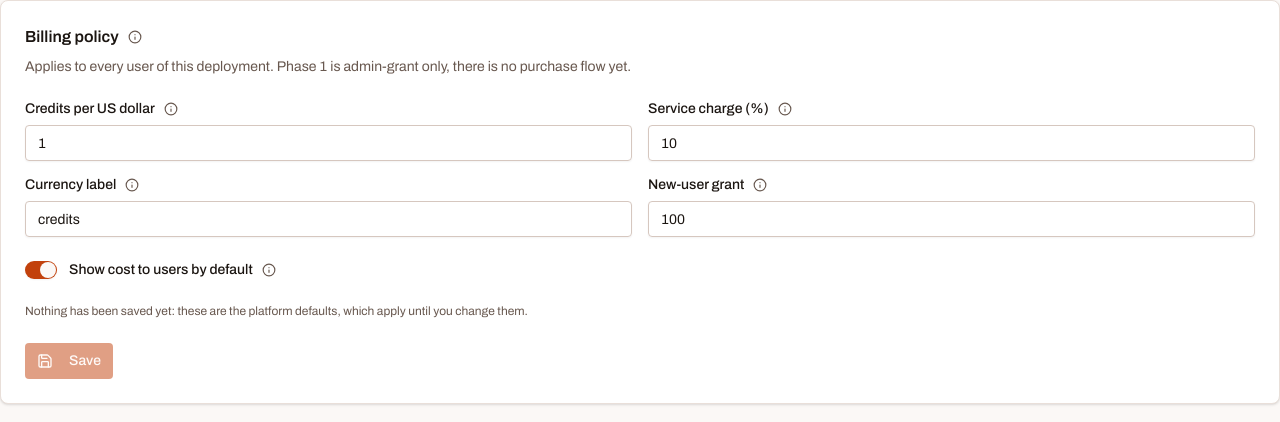
BillingSettingsForm › defaults hint › suppresses the hint immediately after a save even if the response reports isDefault
Check: the text "Nothing has been saved yet" is shown, box left=25, top=304, right=528, bottom=318
Replace the text in the number field with id "resparkable-credits-per-usd" with "7" at (328, 143), box left=25, top=125, right=632, bottom=161
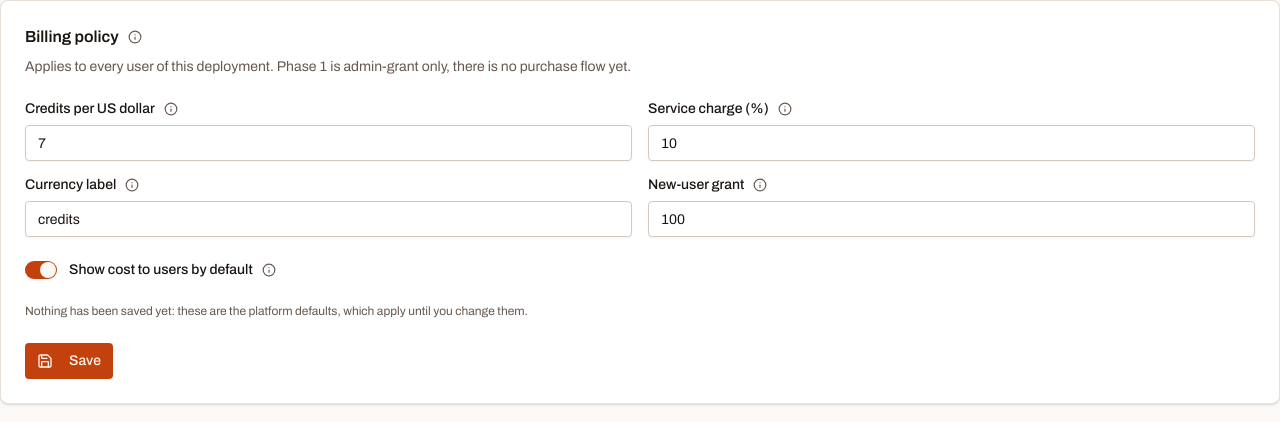
Click the button "Save".
click(69, 361)  # box left=25, top=343, right=113, bottom=379
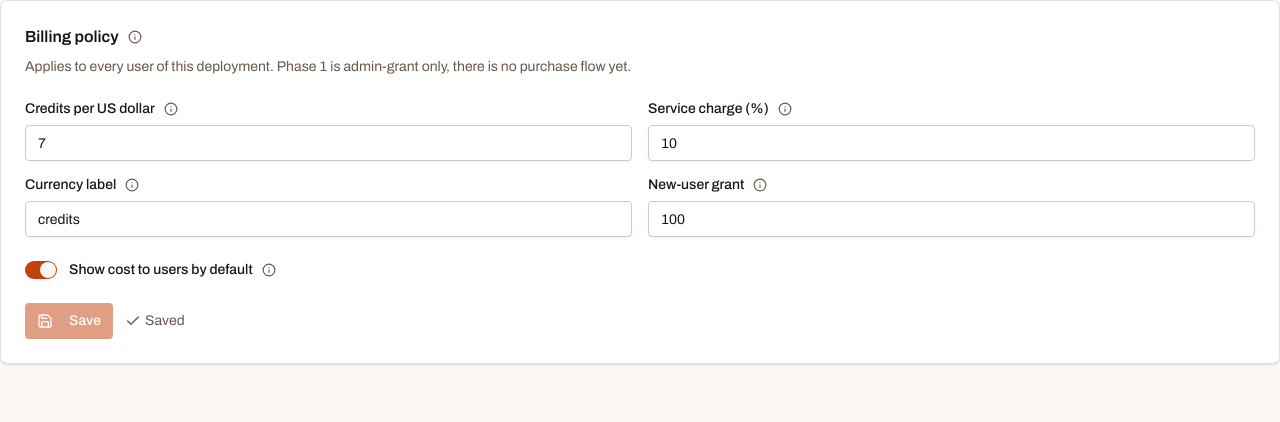
Check: the text "Saved" is shown, box left=125, top=311, right=185, bottom=331
Check: the text "Nothing has been saved yet" is gone
